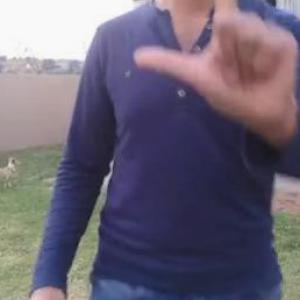land_hand: (131, 0, 300, 121)
